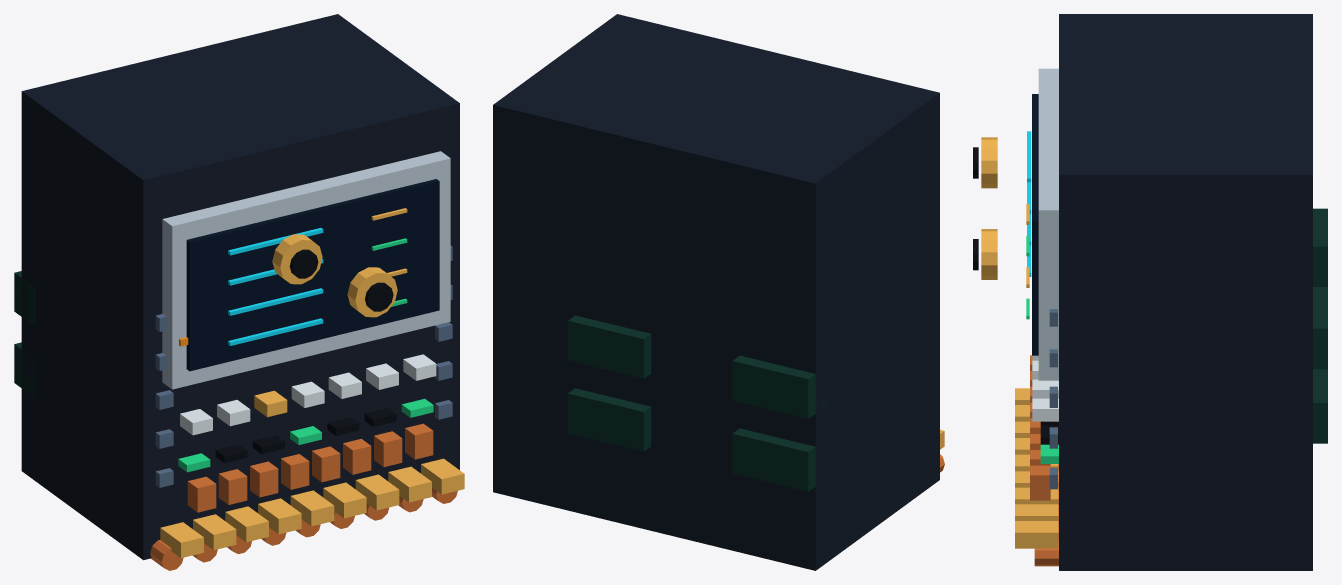
Rendered from 76_L91_NavigationIntegritySafetyPLC.fbx.
The picture shows the model from 3 angles, left to right: view 1: azimuth 30°, elevation 25°; view 2: azimuth 150°, elevation 25°; view 3: azimuth 270°, elevation 25°; orthographic projection. The views are drawn at different scales.
Visible parts, largest first — view 1: L91_NavigationIntegritySafetyPLC, L91_NavigationIntegritySafetyPLC_Part_0013, L91_NavigationIntegritySafetyPLC_Part_0015, L91_NavigationIntegritySafetyPLC_Part_0016, L91_NavigationIntegritySafetyPLC_Part_0014; view 2: L91_NavigationIntegritySafetyPLC; view 3: L91_NavigationIntegritySafetyPLC, L91_NavigationIntegritySafetyPLC_Part_0013, L91_NavigationIntegritySafetyPLC_Part_0015.
Boxes of the visible parts, x1,y1,x2,y2 form: L91_NavigationIntegritySafetyPLC: (14, 14, 464, 570); L91_NavigationIntegritySafetyPLC_Part_0013: (272, 234, 322, 284); L91_NavigationIntegritySafetyPLC_Part_0015: (347, 267, 397, 317); L91_NavigationIntegritySafetyPLC_Part_0016: (365, 282, 393, 311); L91_NavigationIntegritySafetyPLC_Part_0014: (289, 249, 318, 278); L91_NavigationIntegritySafetyPLC: (493, 14, 944, 570); L91_NavigationIntegritySafetyPLC: (1015, 14, 1327, 570); L91_NavigationIntegritySafetyPLC_Part_0013: (981, 137, 997, 188); L91_NavigationIntegritySafetyPLC_Part_0015: (981, 229, 997, 279).
Size of the model in its own units: 96.9 by 113 by 90.3.
